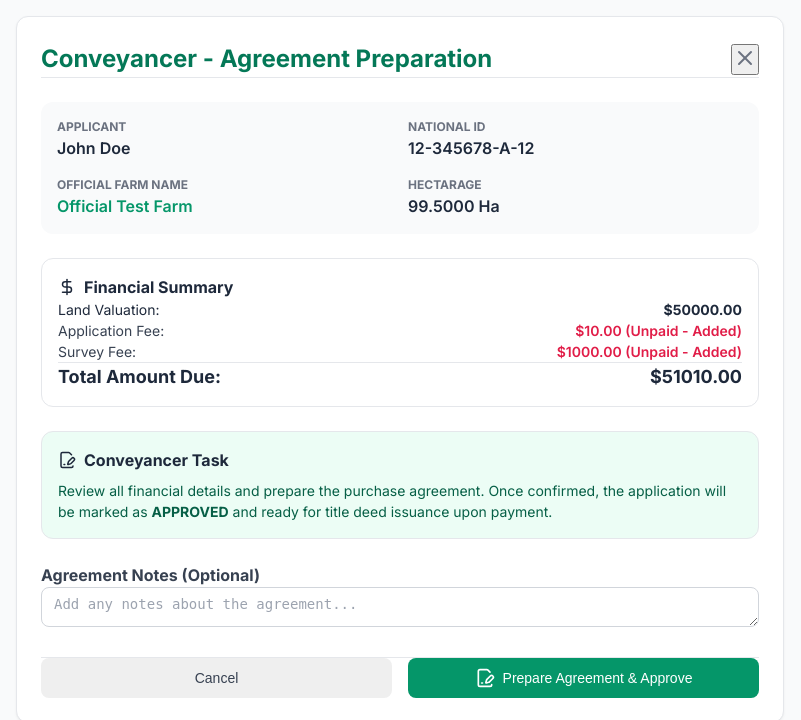
ConveyancerInterface › disables button while processing
Click the button "Prepare Agreement & Approve" at [584, 678], box [408, 658, 759, 698]
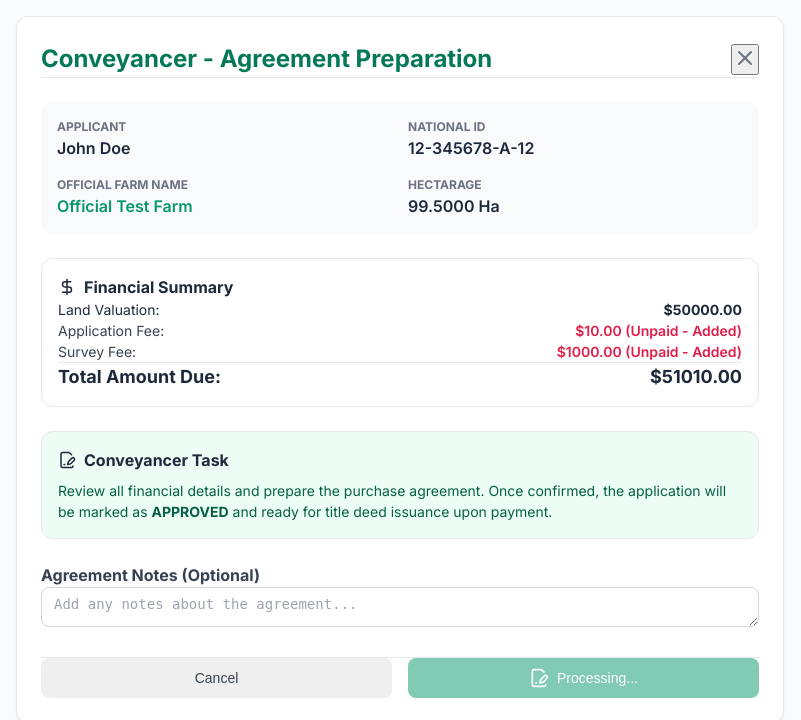
expect the button "Prepare Agreement & Approve" is disabled: met, box [408, 658, 759, 698]
